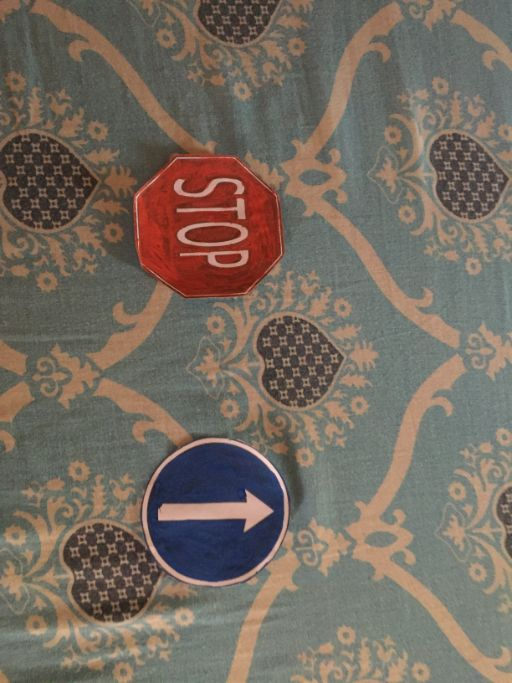go-stright: (142, 437, 284, 588)
stop: (132, 152, 283, 299)
